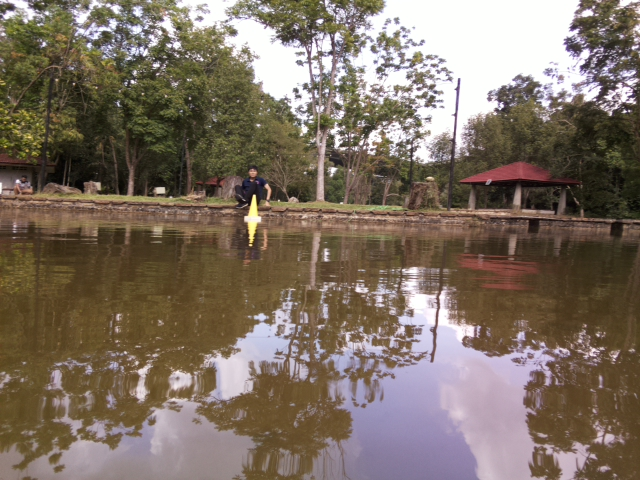checkpoint: (243, 193, 262, 222)
